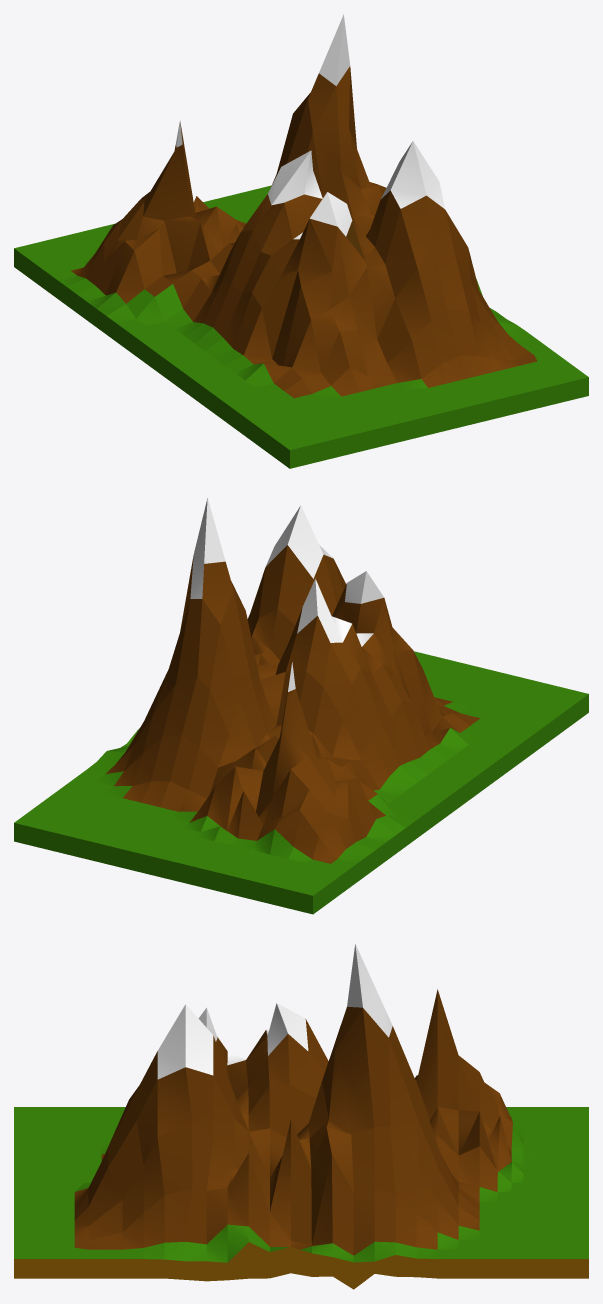
Rendered from mountains.fbx.
3 renders of one model, top to bottom at view 1: azimuth 30°, elevation 25°; view 2: azimuth 150°, elevation 25°; view 3: azimuth 270°, elevation 25°, orthographic. The views are drawn at different scales.
Visible parts, largest first — view 1: mountains; view 2: mountains; view 3: mountains.
Part boxes in pixels (bbox=[...]): mountains: bbox=[14, 14, 588, 468]; mountains: bbox=[14, 498, 588, 914]; mountains: bbox=[14, 944, 588, 1289].
Size of the model in its own units: 1565 by 1462 by 2499.
